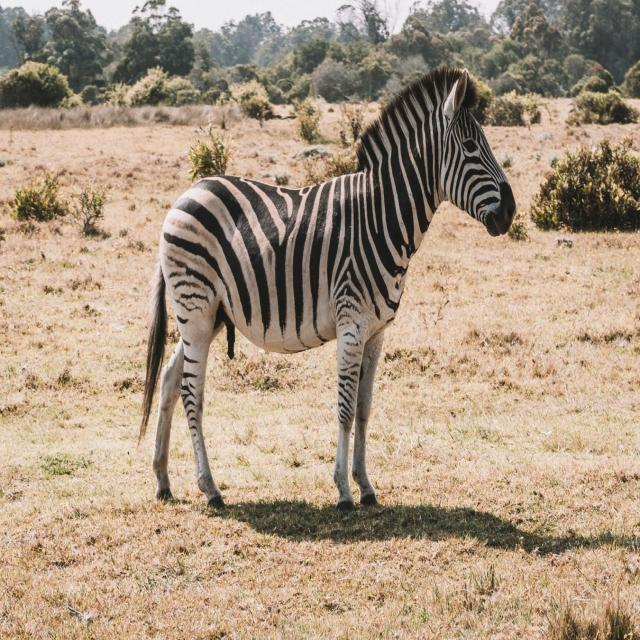Zebra: (131, 66, 524, 518)
